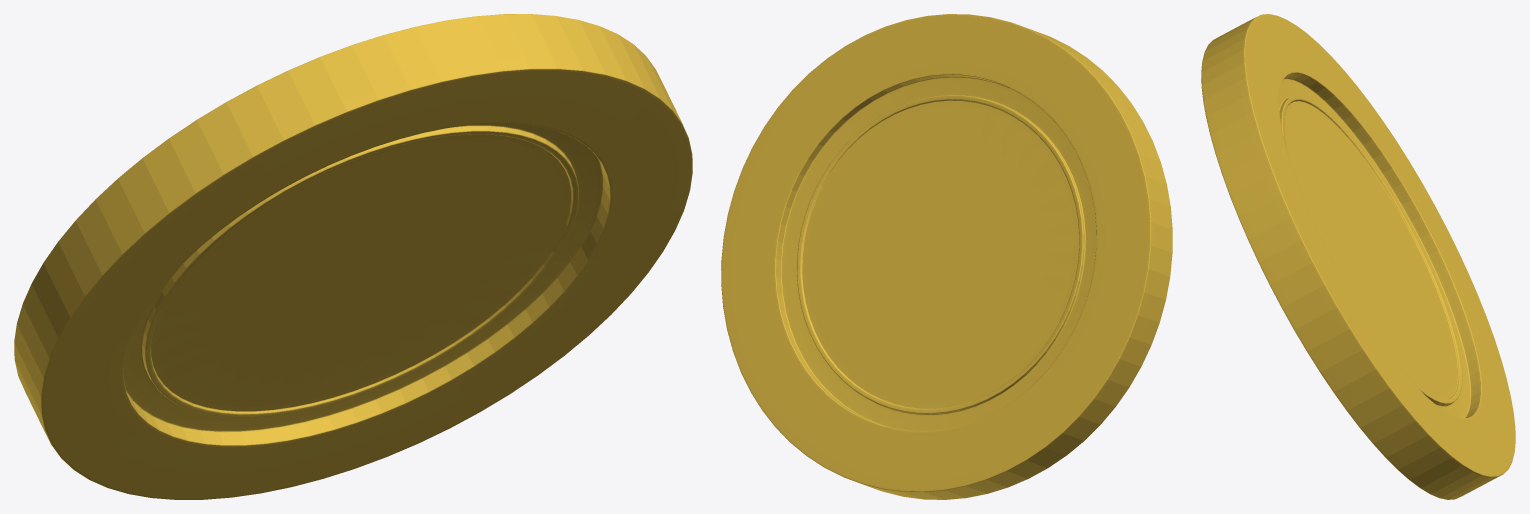
Rendered from onlyCoin.fbx.
3 views of the same model, side by side, from view 1: azimuth 30°, elevation 25°; view 2: azimuth 150°, elevation 25°; view 3: azimuth 270°, elevation 25° (orthographic). The views are drawn at different scales.
Visible parts, largest first — view 1: Circle; view 2: Circle; view 3: Circle.
Boxes of the visible parts, x1,y1,x2,y2 form: Circle: [14, 14, 692, 499]; Circle: [721, 14, 1172, 499]; Circle: [1201, 14, 1515, 499].
Size of the model in its own units: 199 by 180 by 120.
